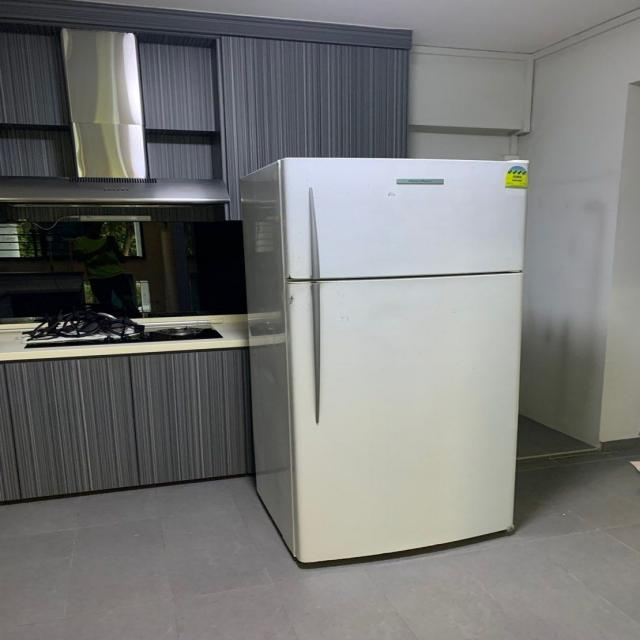refrigerator: (278, 155, 531, 568)
